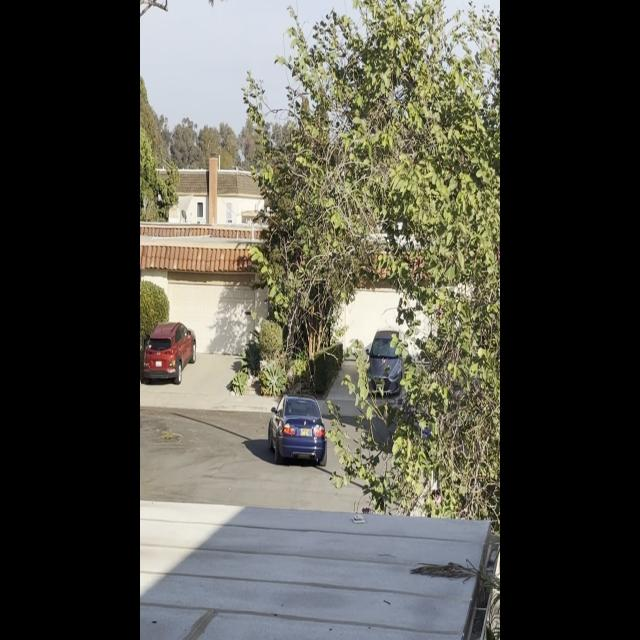Carbeetle: (266, 387, 327, 475)
Civilian: (140, 318, 199, 383), (363, 320, 409, 403)
